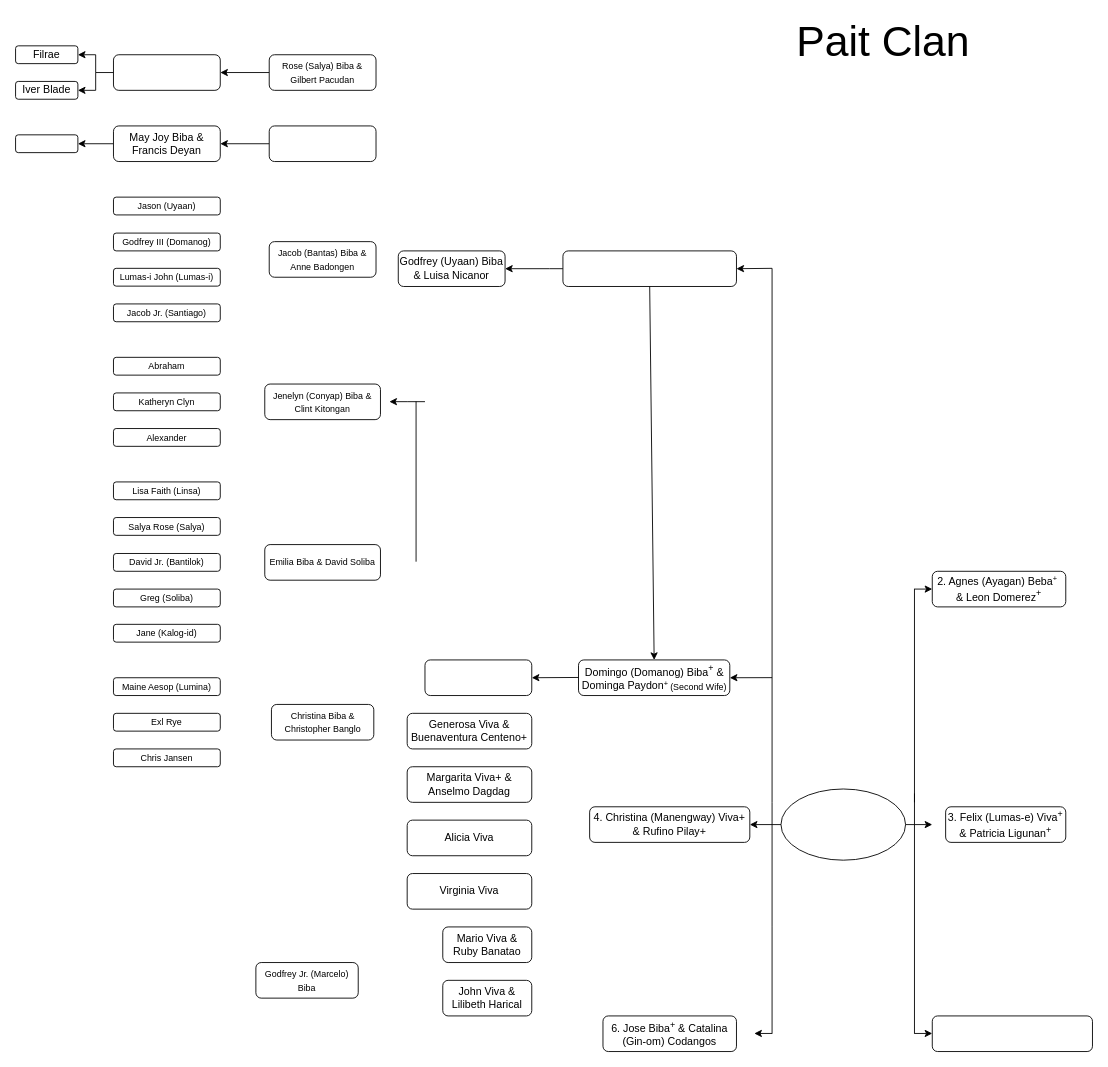
Image size: 1108x1067. Some labels were removed from this diagram. The shapes that lost their labels are listed below. From the top down, each one's box as (x1, y1, x2, y2) in pixels, then its label:
(113, 54, 220, 90): Filbert Pacudan & Rhea Paleyan
(15, 134, 78, 153): Kyle
(268, 125, 376, 162): Claire (Ugamay) Biba
(562, 250, 736, 286): 1. Domingo (Domanog) Biba + & Emilia (Kuman) Bagni + (First Wife)
(424, 659, 532, 696): Viola Viva & Artemio Calletong
(780, 788, 906, 860): Mariano + & Isabel +
(931, 1015, 1092, 1052): 5. Fernando (Kagan) Domanog + & Lucia Miguel +
